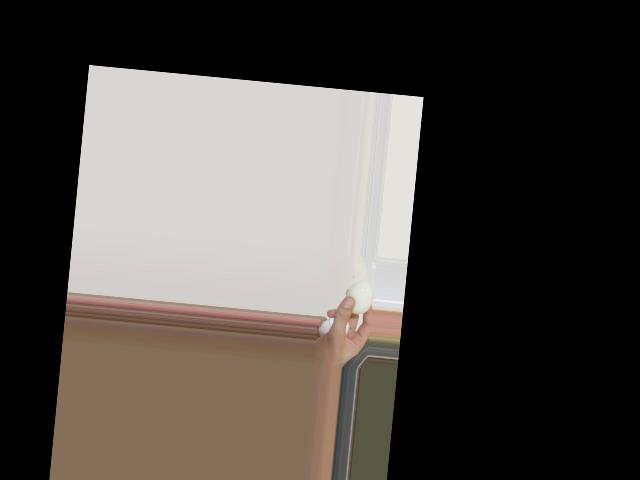egg: (343, 279, 374, 315)
